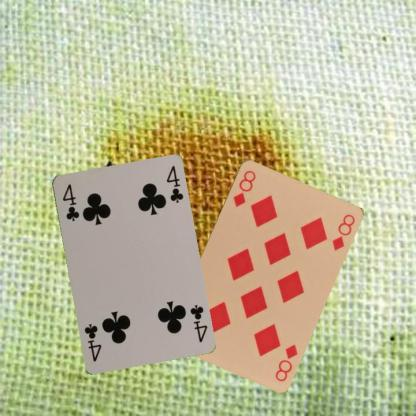4c: (187, 302, 208, 343), (60, 181, 80, 222)
8d: (230, 167, 257, 208), (272, 342, 299, 382)
